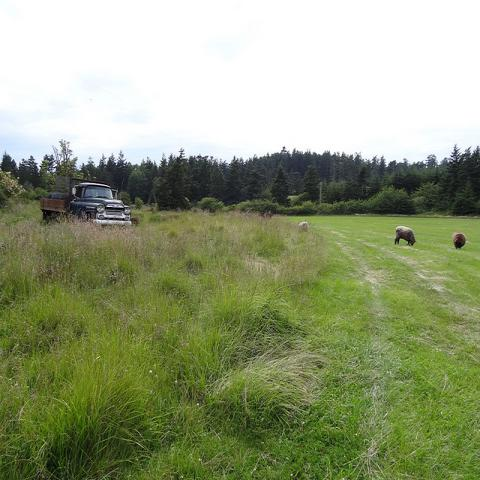truck: (40, 176, 134, 226)
